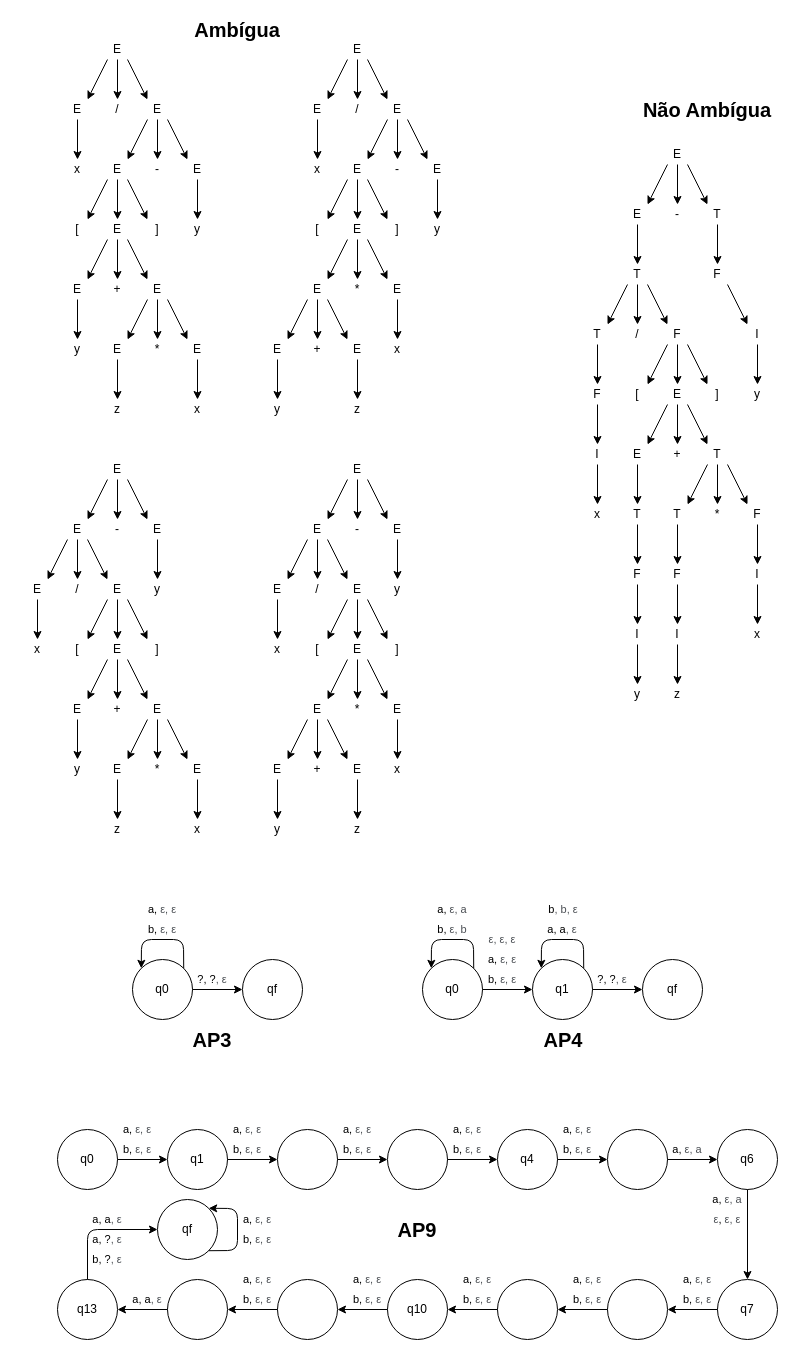
This 795x1357 diagram has some shape labels left out. The shapes that lost their labels are listed below. From the top down, each one's centre as x and y in pixels, then its label:
At pixel 307 1159: "q2".
At pixel 417 1159: "q3".
At pixel 637 1159: "q5".
At pixel 197 1309: "q12".
At pixel 307 1309: "q11".
At pixel 527 1309: "q9".
At pixel 637 1309: "q8".
